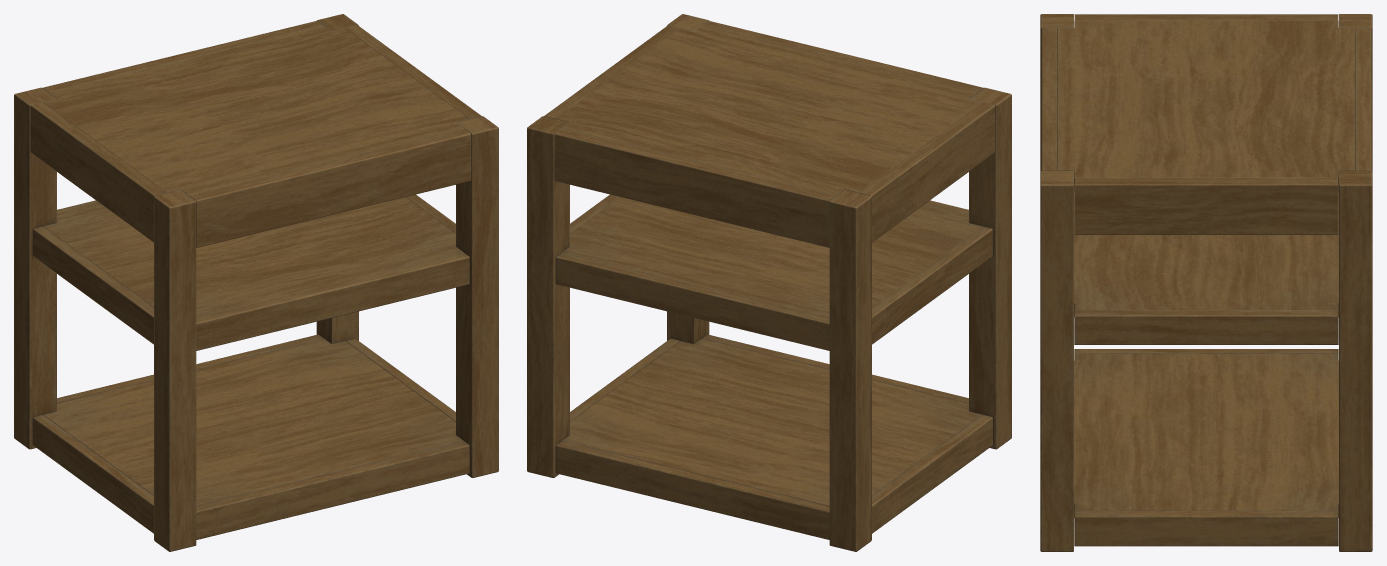
File: alternate.glb
3 renders of one model, left to right at view 1: azimuth 30°, elevation 25°; view 2: azimuth 150°, elevation 25°; view 3: azimuth 270°, elevation 25°, orthographic. The views are drawn at different scales.
Visible parts, largest first — view 1: side_table_01; view 2: side_table_01; view 3: side_table_01.
Boxes of the visible parts, x1=… form: side_table_01: x1=14, y1=14, x2=498, y2=551; side_table_01: x1=527, y1=14, x2=1011, y2=551; side_table_01: x1=1040, y1=14, x2=1372, y2=551.
Size of the model in its own units: 0.55 by 0.5507 by 0.45.
1 material, 1 textured.
